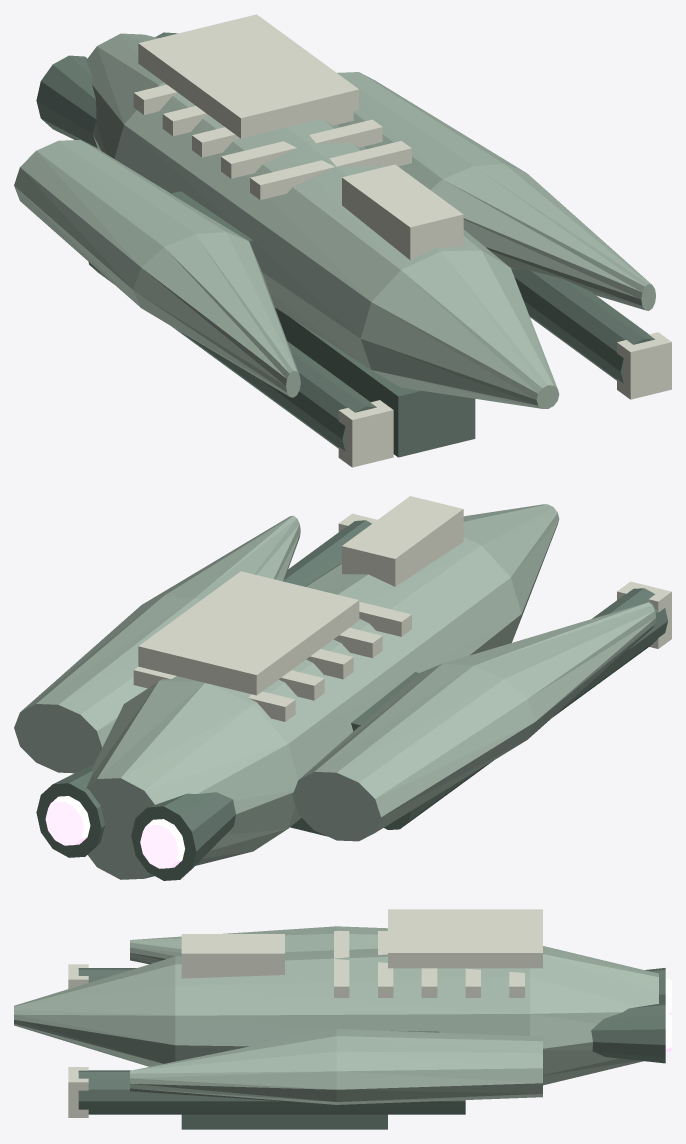
3 views of the same model, one above another, from view 1: azimuth 30°, elevation 25°; view 2: azimuth 150°, elevation 25°; view 3: azimuth 270°, elevation 25° (orthographic). The views are drawn at different scales.
Bounding box in the file's own units: 2.58 × 1.5 × 4.85.
